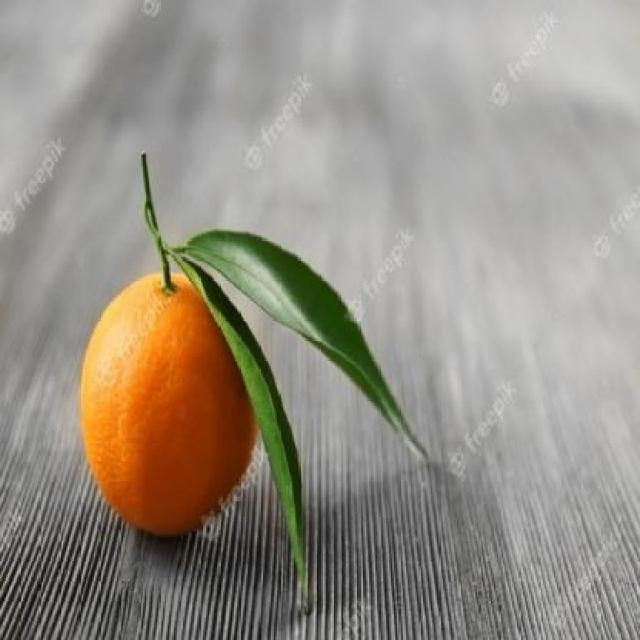Orange: (77, 269, 258, 537)
